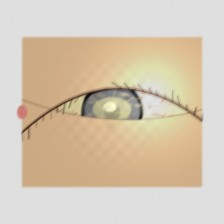corneal_ulcer: (80, 84, 143, 134)
